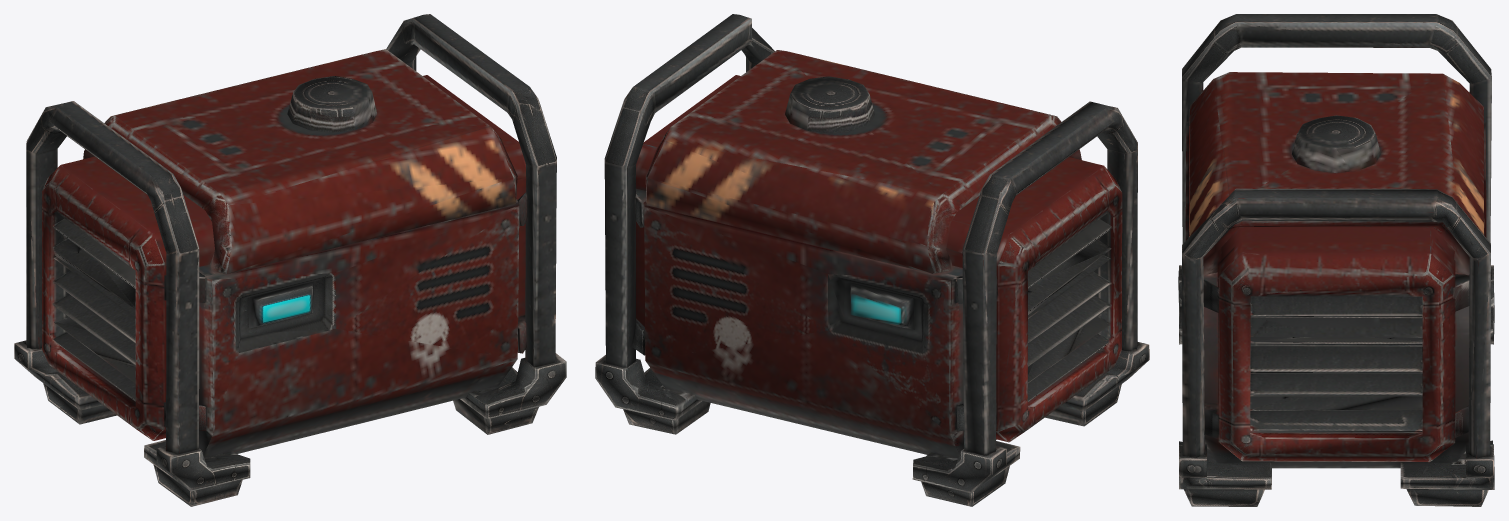
The model's file is Meshy_AI__0908191353_texture.glb.
3 views of the same model, side by side, from view 1: azimuth 30°, elevation 25°; view 2: azimuth 150°, elevation 25°; view 3: azimuth 270°, elevation 25° (orthographic).
Size of the model in its own units: 1 by 0.7637 by 0.6875.
Materials: 1 (1 with a texture image).
